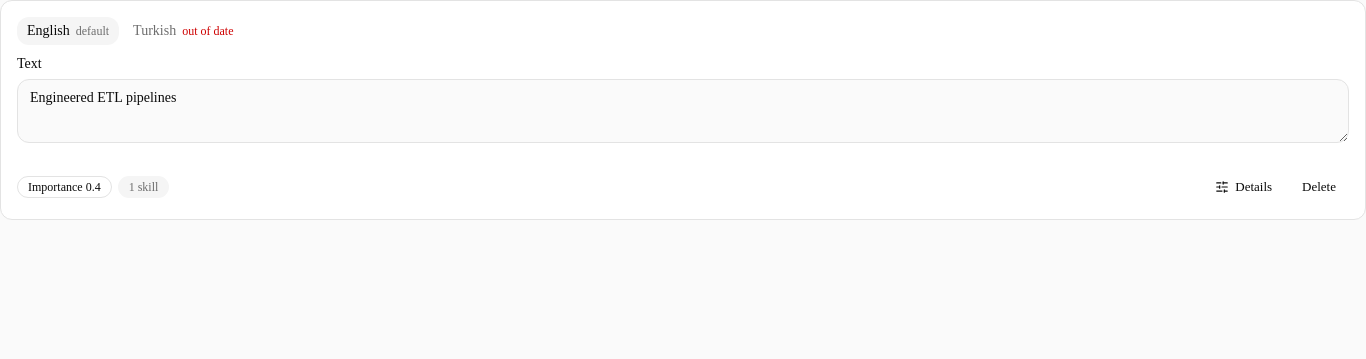
Test: a wording whose source has moved on › sends nothing at all when the reader keeps what they wrote
What coordinates should you click on to do the following:
click the tab "Turkish out of date"
I would click on:
 (183, 31)
Its box is [123, 17, 244, 45].
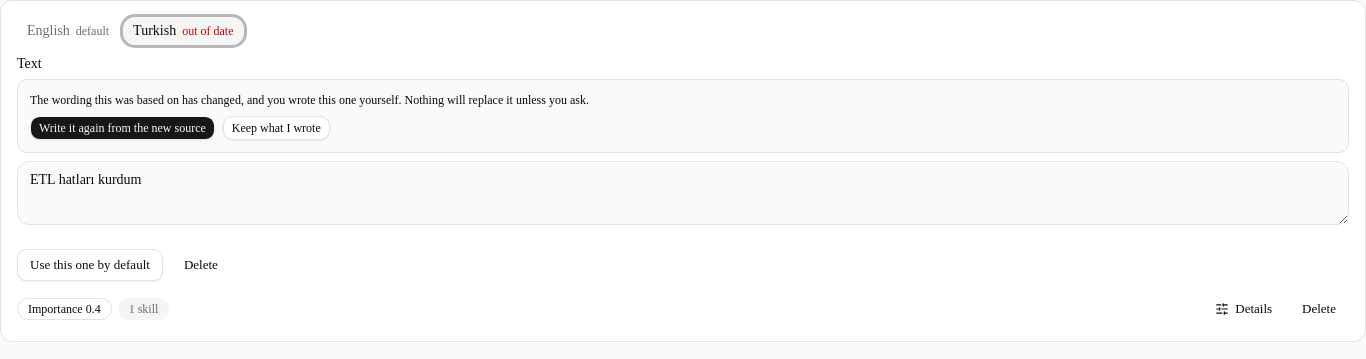
What coordinates should you click on to do the following:
click the button "Keep what I wrote"
I would click on:
 (276, 128)
Its box is [223, 116, 330, 140].
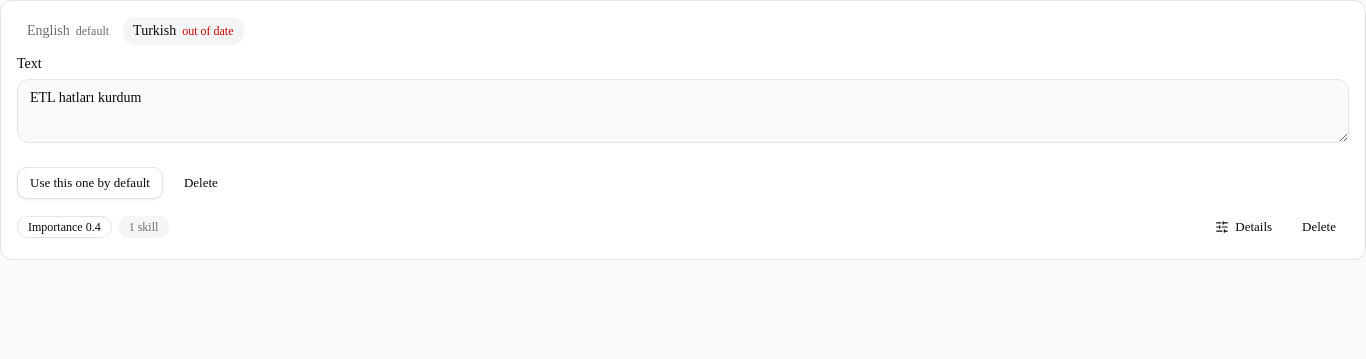
Expected: the tab "Turkish out of date" is shown, [123, 17, 244, 45]
Expected: the message with test id "stale-yours" is gone
